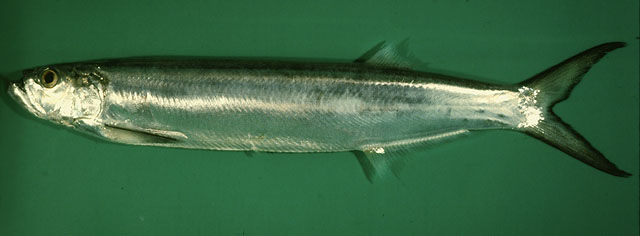fish: (9, 41, 634, 180)
